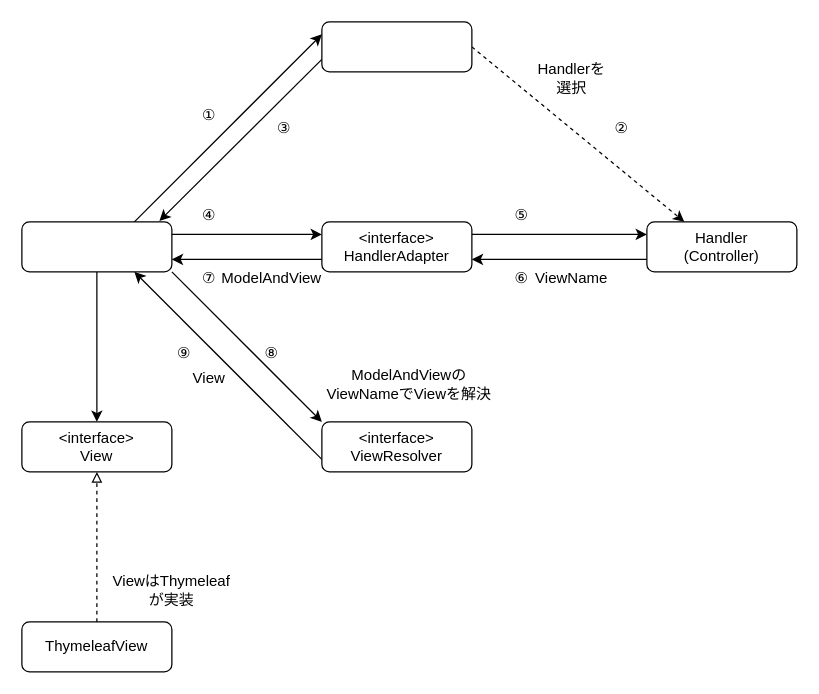
The diagram is 819 pixels wide and 694 high, and some of its shapes have lost their labels. The centre of each missing label's shape, as x and y in pixels:
<interface> HandlerMapping: the point at 396,46
DispatcherServlet: the point at 96,246
